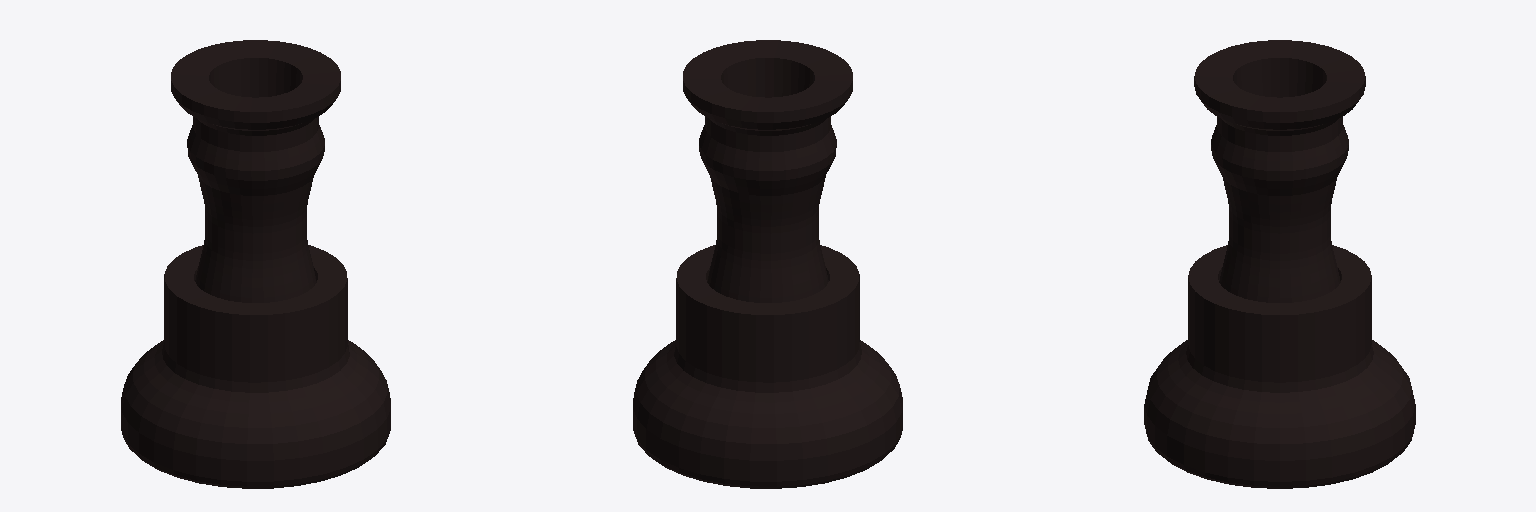
File: candlestick.obj
The picture shows the model from 3 angles: view 1: azimuth 30°, elevation 25°; view 2: azimuth 150°, elevation 25°; view 3: azimuth 270°, elevation 25°; orthographic projection.
Parts seen in each view (by area): view 1: Candlestick_P1; view 2: Candlestick_P1; view 3: Candlestick_P1.
Boxes of the visible parts, box(x1,y1,x2,y2) form: Candlestick_P1: box(121, 40, 390, 488); Candlestick_P1: box(633, 40, 902, 488); Candlestick_P1: box(1144, 40, 1415, 488).
Bounding box in the file's own units: 0.9128 × 1.34 × 0.9128.